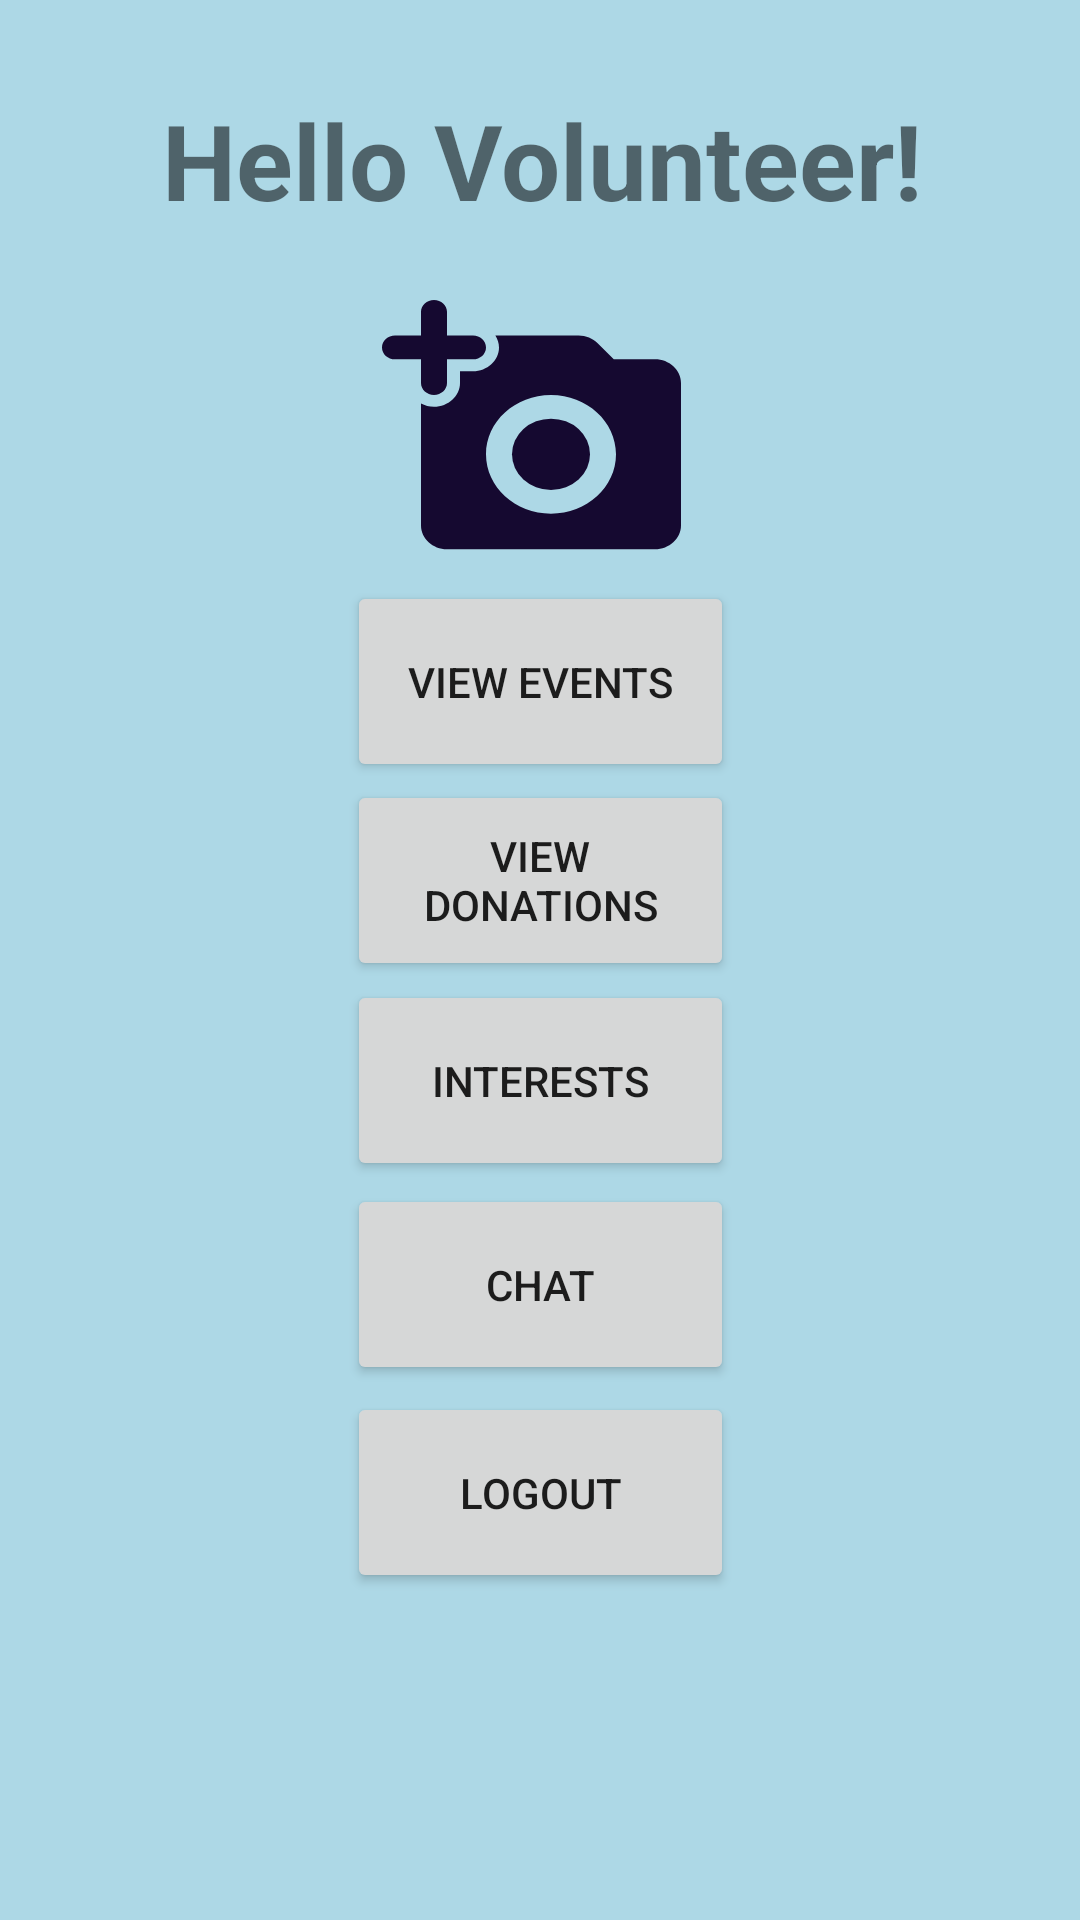

Named icons in this screenshot (1080×1920) and their centers, (x=x, y=y):
add photo: (x=531, y=425)
